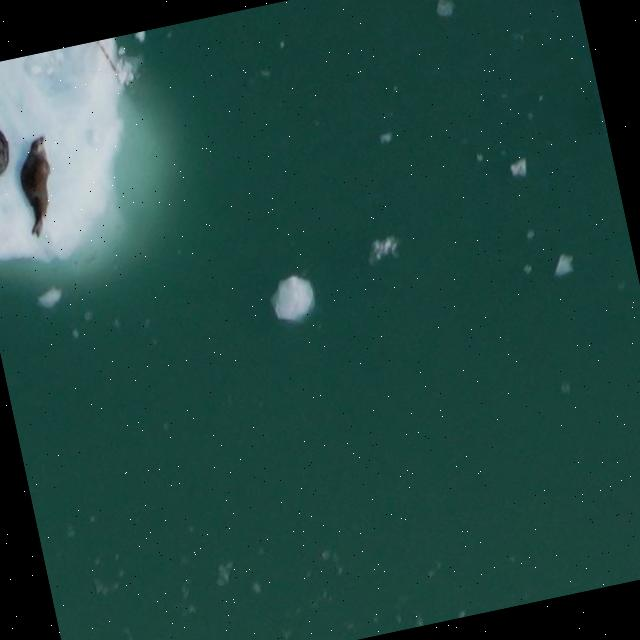seal: (12, 134, 60, 240), (0, 130, 8, 171)
